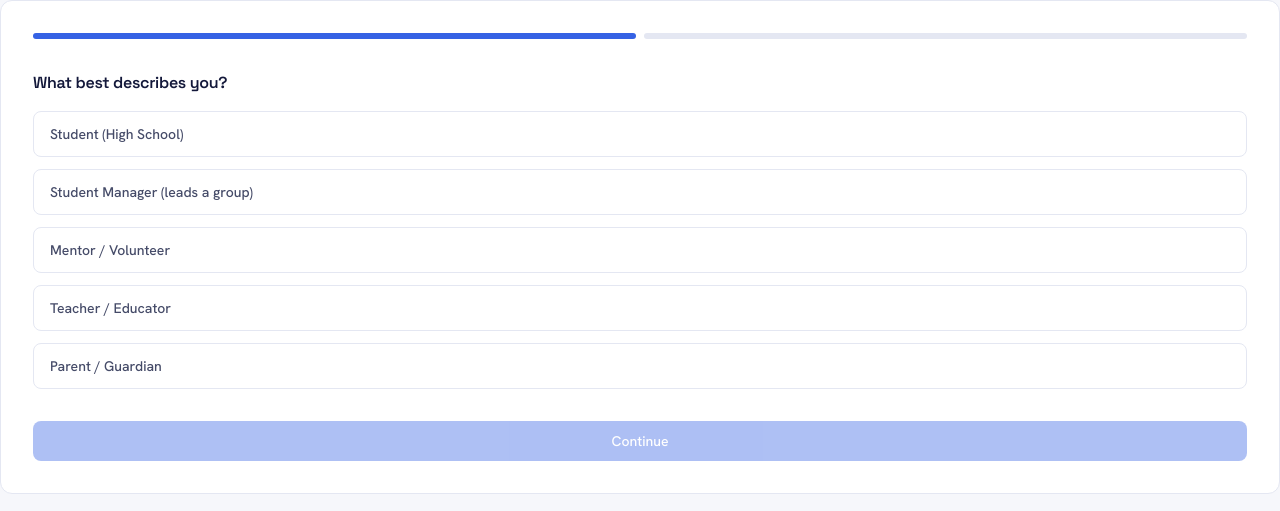
OnboardingForm › fills the member’s own details from autofill, by token
The width and height of the screenshot is (1280, 511).
What coordinates should you click on to do the following:
click the button "Teacher / Educator"
I would click on:
 (111, 308)
Its box is [33,285,1247,331].
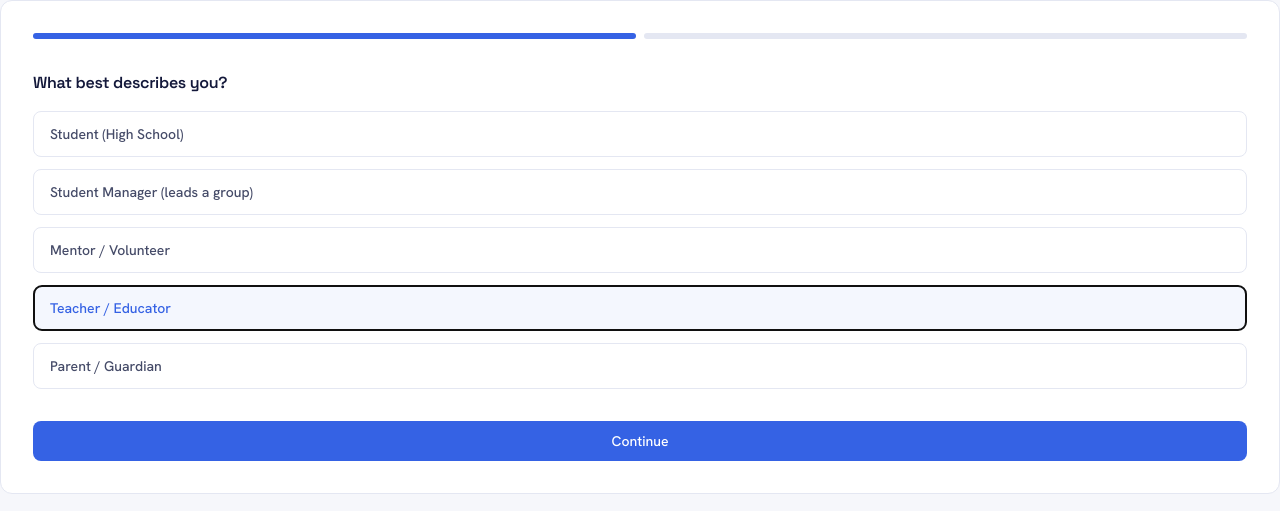
What coordinates should you click on to do the following:
click the button "Continue"
I would click on:
 (640, 441)
Its box is [33,421,1247,461].
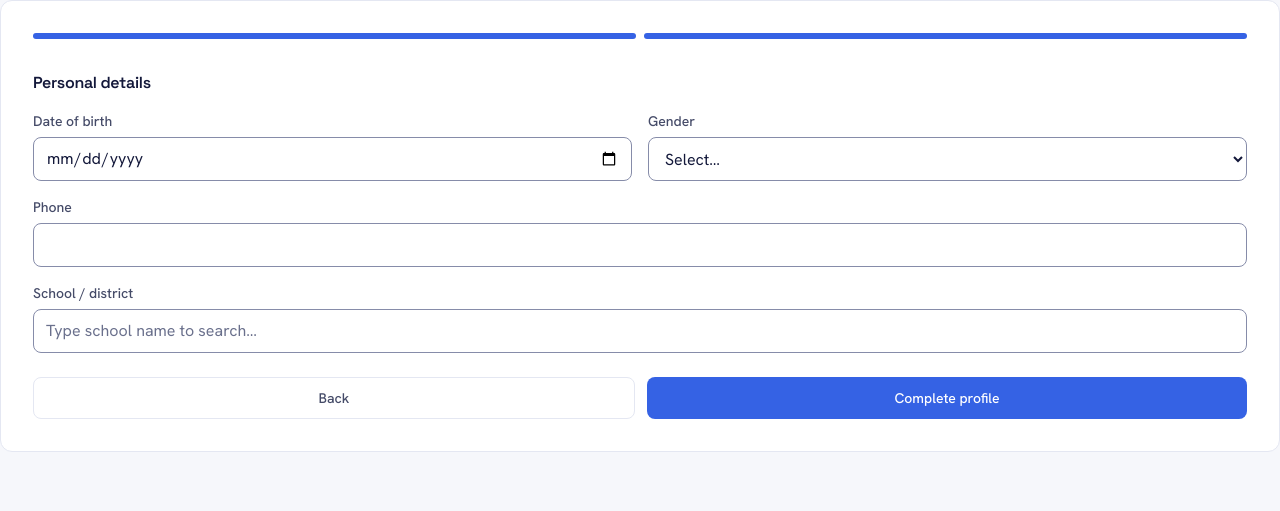
Check: the dropdown labelled "School / district" is shown, box [33,309,1247,353]
